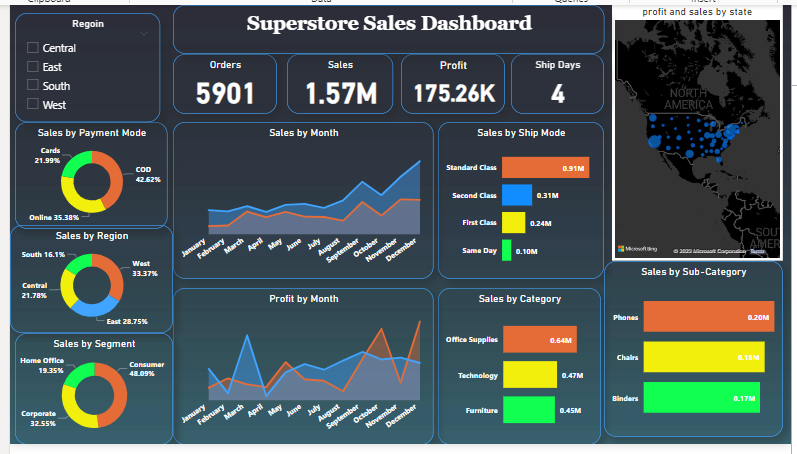

What the dashboard file says about the page in this screenshot:
{"tool":"powerbi","page":{"name":"Page 1","canvas":[1280,720],"ordinal":0},"visuals":[{"type":"barChart","title":"Sales by Category","fields":{"Category":["Sheet1.Category"],"Y":["Sum(Sheet1.Sales)"]},"box":[702.2,463.2,266.8,257],"z":0},{"type":"barChart","title":"Sales by Ship Mode ","fields":{"Y":["Sum(Sheet1.Sales)"],"Category":["Sheet1.Ship Mode"]},"box":[702.2,191.5,271.7,257],"z":1000},{"type":"barChart","title":"Sales by Sub-Category","fields":{"Y":["Sum(Sheet1.Sales)"],"Category":["Sheet1.Sub-Category"]},"box":[973.9,419,293,288.1],"z":2000},{"type":"areaChart","title":"Sales by Month","fields":{"Y":["Sum(Sheet1.Sales)"],"Category":["Sheet1.Order Date.Variation.Date Hierarchy.Month","Sheet1.Order Date.Variation.Date Hierarchy.Day"],"Series":["Sheet1.Order Date.Variation.Date Hierarchy.Year"]},"box":[266.8,191.5,427.2,257],"z":3000},{"type":"areaChart","title":"Profit by Month ","fields":{"Category":["Sheet1.Order Date.Variation.Date Hierarchy.Month","Sheet1.Order Date.Variation.Date Hierarchy.Day"],"Series":["Sheet1.Order Date.Variation.Date Hierarchy.Year"],"Y":["Sum(Sheet1.Profit)"]},"box":[266.8,463.2,427.2,257],"z":4000},{"type":"map","title":"profit and sales by state ","fields":{"Category":["Sheet1.State"],"Size":["Sum(Sheet1.Sales)"]},"box":[987,0,279.9,419],"z":5000},{"type":"donutChart","title":"Sales by Payment Mode","fields":{"Category":["Sheet1.Payment Mode"],"Y":["Sum(Sheet1.Sales)"]},"box":[8.2,191.5,250.4,175.1],"z":6000},{"type":"donutChart","title":"Sales by Region ","fields":{"Y":["Sum(Sheet1.Sales)"],"Category":["Sheet1.Region"]},"box":[0,360.1,266.8,176.8],"z":7000},{"type":"donutChart","title":"Sales by Segment ","fields":{"Y":["Sum(Sheet1.Sales)"],"Category":["Sheet1.Segment"]},"box":[8.2,536.9,258.6,183.3],"z":8000},{"type":"card","title":"Orders ","fields":{"Values":["CountNonNull(Sheet1.Order ID)"]},"box":[266.8,80.2,170.2,98.2],"z":9000},{"type":"card","title":"Sales","fields":{"Values":["Sum(Sheet1.Sales)"]},"box":[453.4,80.2,173.5,98.2],"z":10000},{"type":"card","title":"Profit ","fields":{"Values":["Sum(Sheet1.Profit)"]},"box":[640,80.2,170.2,98.2],"z":11000},{"type":"card","title":"Ship Days ","fields":{"Values":["Avg(Sheet1.AvgDelivery)"]},"box":[821.7,80.2,152.2,98.2],"z":12000},{"type":"textbox","box":[266.8,0,707.1,80.2],"z":13000},{"type":"slicer","title":"Regoin ","fields":{"Values":["Sheet1.Region"]},"box":[8.2,13.1,237.6,178.6],"z":14000}]}

Visuals, with their boxes on the page's 1280x720 design canvas (x1, y1, x2, y2). These are canvas units, not pixel positions in the 797x454 screenshot, which may show the page scaled, cropped or inside an application window:
"Sales by Category" barChart: [x1=702, y1=463, x2=969, y2=720]
"Sales by Ship Mode " barChart: [x1=702, y1=192, x2=974, y2=448]
"Sales by Sub-Category" barChart: [x1=974, y1=419, x2=1267, y2=707]
"Sales by Month" areaChart: [x1=267, y1=192, x2=694, y2=448]
"Profit by Month " areaChart: [x1=267, y1=463, x2=694, y2=720]
"profit and sales by state " map: [x1=987, y1=0, x2=1267, y2=419]
"Sales by Payment Mode" donutChart: [x1=8, y1=192, x2=259, y2=367]
"Sales by Region " donutChart: [x1=0, y1=360, x2=267, y2=537]
"Sales by Segment " donutChart: [x1=8, y1=537, x2=267, y2=720]
"Orders " card: [x1=267, y1=80, x2=437, y2=178]
"Sales" card: [x1=453, y1=80, x2=627, y2=178]
"Profit " card: [x1=640, y1=80, x2=810, y2=178]
"Ship Days " card: [x1=822, y1=80, x2=974, y2=178]
textbox: [x1=267, y1=0, x2=974, y2=80]
"Regoin " slicer: [x1=8, y1=13, x2=246, y2=192]
